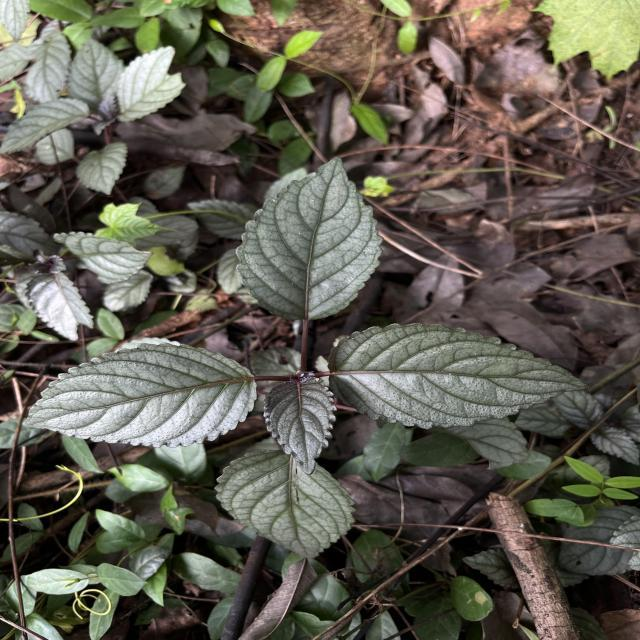Hemigraphis colorata: (330, 320, 594, 432), (17, 338, 264, 450), (232, 152, 387, 322), (210, 448, 360, 562), (260, 372, 338, 480)
